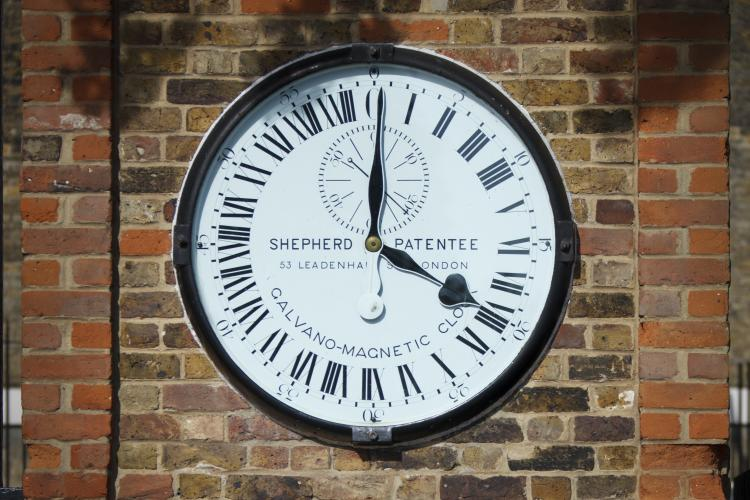clock: (172, 43, 579, 450)
